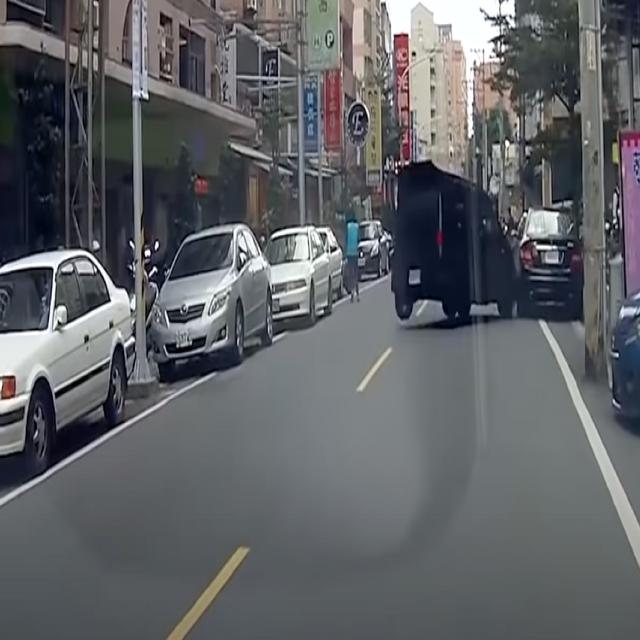accident: (382, 130, 587, 358)
